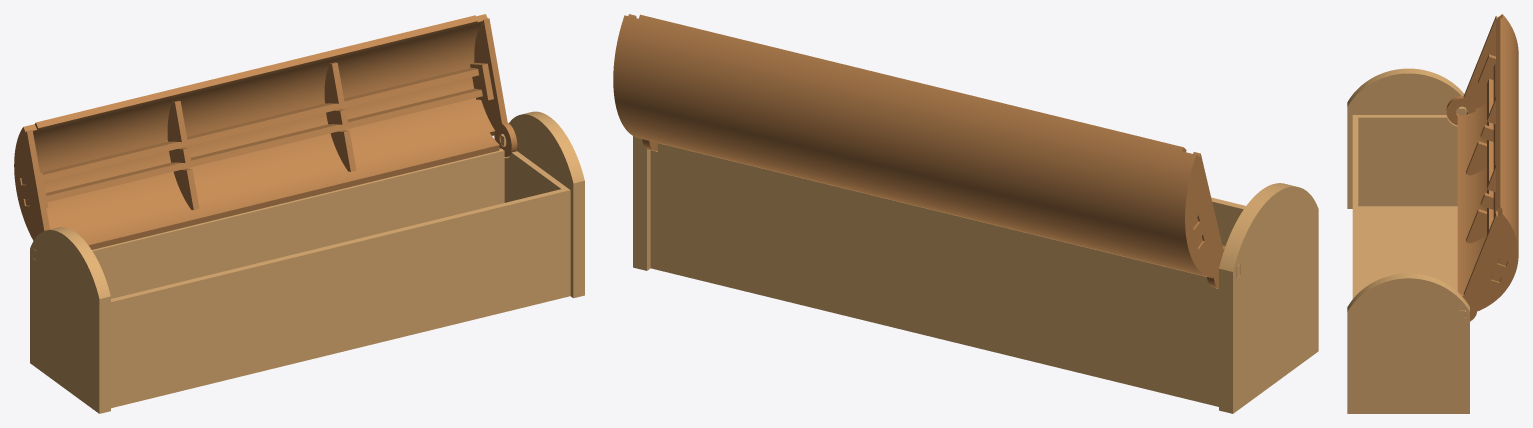
The model's file is MEB037_OPEN_110_DESIGN_ONLY.glb.
The picture shows the model from 3 angles, left to right: view 1: azimuth 30°, elevation 25°; view 2: azimuth 150°, elevation 25°; view 3: azimuth 270°, elevation 25°; orthographic projection. The views are drawn at different scales.
Parts seen in each view (by area): view 1: LID_SKIN_RADIAL_4MM, BODY_FRONT, BODY_BACK, OUTER_FASCIA_L, LID_BACK_RAIL, LID_FRONT_RAIL, FASCIA_HIDDEN_BACKER_R, BODY_END_R, LID_END_R, LID_END_L, LID_CROSS_RIB_2, LID_CROSS_RIB_1 (+4 smaller); view 2: LID_SKIN_RADIAL_4MM, BODY_BACK, OUTER_FASCIA_L, LID_END_L, BODY_FLOOR, FASCIA_HIDDEN_BACKER_L, FASCIA_HIDDEN_BACKER_R, OUTER_FASCIA_R, BODY_FRONT; view 3: OUTER_FASCIA_R, BODY_END_L, LID_SKIN_RADIAL_4MM, BODY_FLOOR, FASCIA_HIDDEN_BACKER_L, LID_END_R, LID_END_L, BODY_FRONT, LID_CROSS_RIB_2, LID_CROSS_RIB_1, LID_BACK_RAIL, FASCIA_HIDDEN_BACKER_R (+3 smaller).
Boxes of the visible parts, <box> form: LID_SKIN_RADIAL_4MM: <box>14,14,499,249</box>; BODY_FRONT: <box>111,189,570,407</box>; BODY_BACK: <box>92,148,504,298</box>; OUTER_FASCIA_L: <box>30,228,104,413</box>; LID_BACK_RAIL: <box>25,88,482,205</box>; LID_FRONT_RAIL: <box>21,67,478,184</box>; FASCIA_HIDDEN_BACKER_R: <box>509,113,578,298</box>; BODY_END_R: <box>504,151,570,297</box>; LID_END_R: <box>474,18,517,157</box>; LID_END_L: <box>17,129,49,237</box>; LID_CROSS_RIB_2: <box>324,62,356,171</box>; LID_CROSS_RIB_1: <box>167,100,199,210</box>; LID_SKIN_RADIAL_4MM: <box>613,14,1214,278</box>; BODY_BACK: <box>650,143,1218,405</box>; OUTER_FASCIA_L: <box>1226,185,1318,413</box>; LID_END_L: <box>1189,152,1225,288</box>; BODY_FLOOR: <box>728,280,1180,397</box>; FASCIA_HIDDEN_BACKER_L: <box>1219,183,1288,411</box>; FASCIA_HIDDEN_BACKER_R: <box>640,138,650,270</box>; OUTER_FASCIA_R: <box>633,136,639,269</box>; BODY_FRONT: <box>1211,197,1245,245</box>; OUTER_FASCIA_R: <box>1347,276,1469,413</box>; BODY_END_L: <box>1352,115,1457,206</box>; LID_SKIN_RADIAL_4MM: <box>1457,14,1518,310</box>; BODY_FLOOR: <box>1358,206,1457,292</box>; FASCIA_HIDDEN_BACKER_L: <box>1347,71,1467,208</box>; LID_END_R: <box>1460,213,1512,321</box>; LID_END_L: <box>1446,16,1497,125</box>; BODY_FRONT: <box>1352,117,1358,298</box>; LID_CROSS_RIB_2: <box>1466,165,1495,243</box>; LID_CROSS_RIB_1: <box>1466,97,1495,175</box>; LID_BACK_RAIL: <box>1487,79,1500,281</box>; FASCIA_HIDDEN_BACKER_R: <box>1347,273,1469,309</box>.
Size of the model in its own units: 340 by 149 by 117.
